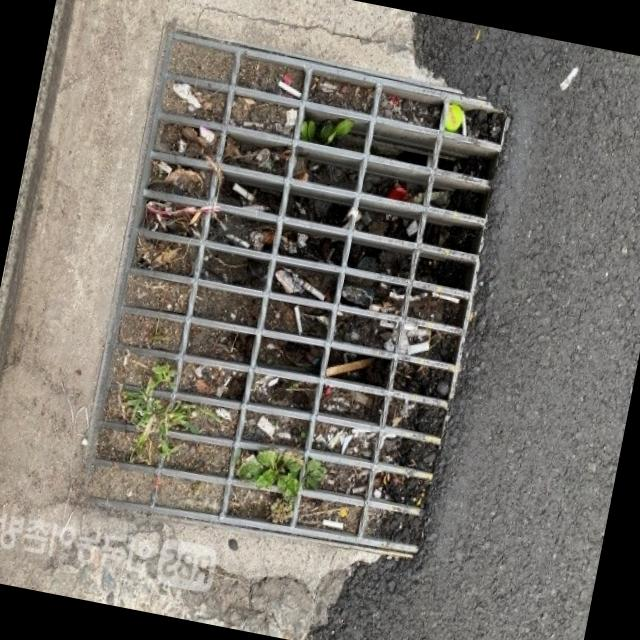drain_full: (85, 34, 513, 551)
